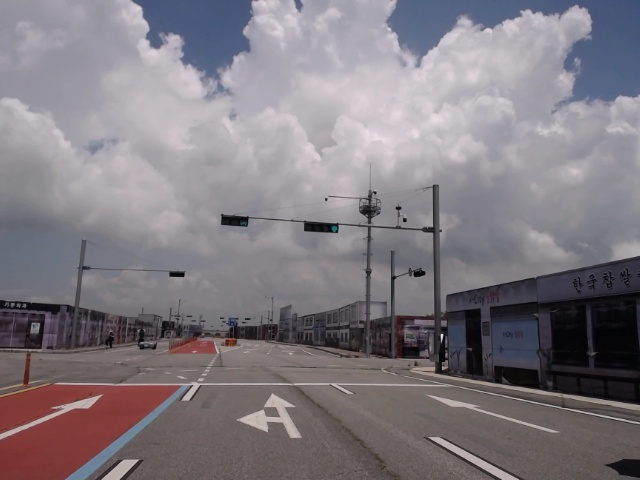straight_green_4: (304, 220, 339, 235)
